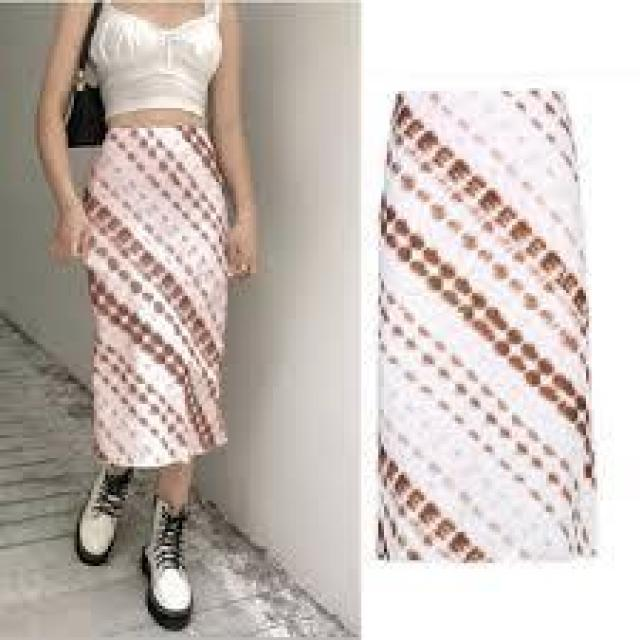skirt: (373, 86, 603, 564), (77, 123, 236, 470)
